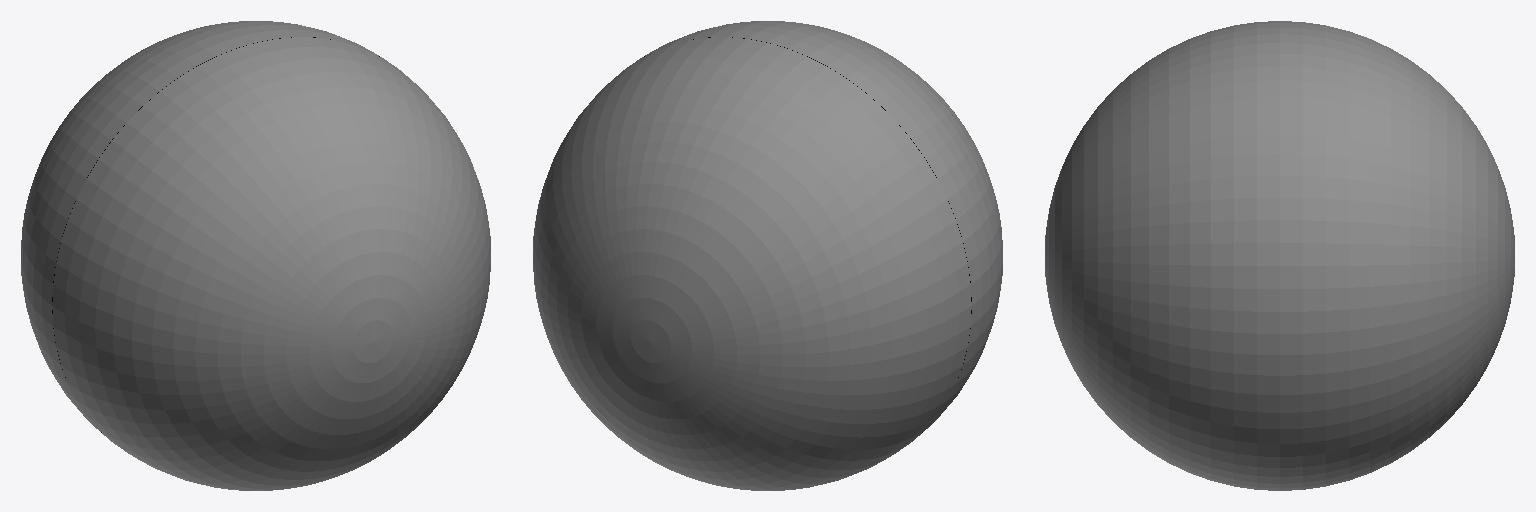
Rendered from eart_o.obj.
3 views of the same model, side by side, from view 1: azimuth 30°, elevation 25°; view 2: azimuth 150°, elevation 25°; view 3: azimuth 270°, elevation 25° (orthographic).
Visible parts, largest first — view 1: skin001, skin; view 2: skin, skin001; view 3: skin001, skin.
Boxes of the visible parts, x1=… form: skin001: x1=52, y1=37, x2=490, y2=490; skin: x1=21, y1=21, x2=383, y2=435; skin: x1=533, y1=37, x2=971, y2=490; skin001: x1=640, y1=21, x2=1002, y2=435; skin001: x1=1045, y1=21, x2=1279, y2=490; skin: x1=1280, y1=21, x2=1514, y2=490.
Size of the model in its own units: 149 by 149 by 149.